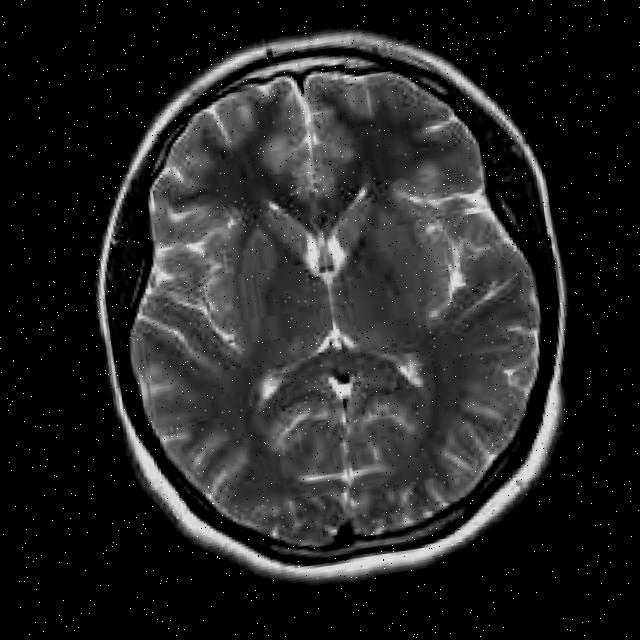NoTumor: (88, 29, 574, 578)
